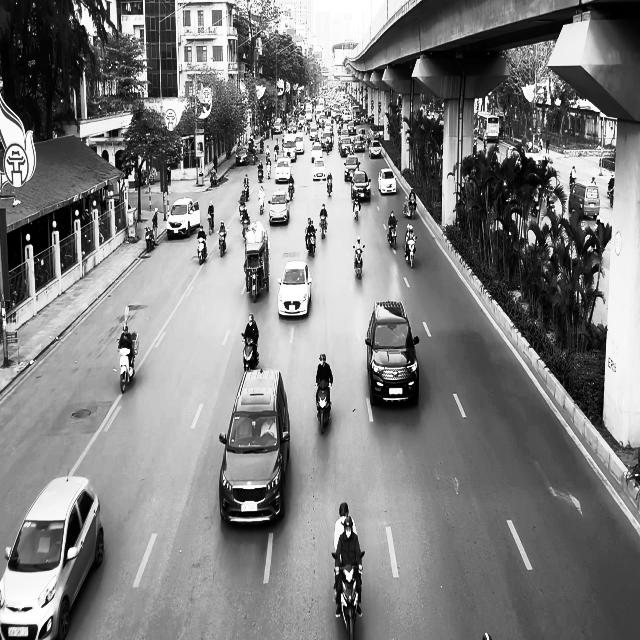bus: (477, 112, 500, 144)
car: (0, 474, 104, 639), (219, 368, 290, 526), (365, 299, 420, 407), (277, 260, 312, 318), (166, 197, 200, 239), (568, 180, 600, 219), (268, 189, 290, 225), (351, 170, 371, 202), (378, 168, 396, 194), (274, 158, 292, 183), (235, 146, 249, 165)
motorbike: (332, 550, 364, 639), (316, 383, 332, 433), (118, 346, 135, 393), (241, 332, 259, 372), (353, 244, 365, 279), (405, 235, 417, 268), (305, 228, 317, 257), (387, 221, 398, 251), (217, 230, 228, 257), (144, 226, 155, 252), (197, 238, 207, 264), (352, 194, 361, 220), (320, 216, 327, 239), (207, 213, 214, 235), (326, 176, 333, 196), (258, 195, 265, 214)
